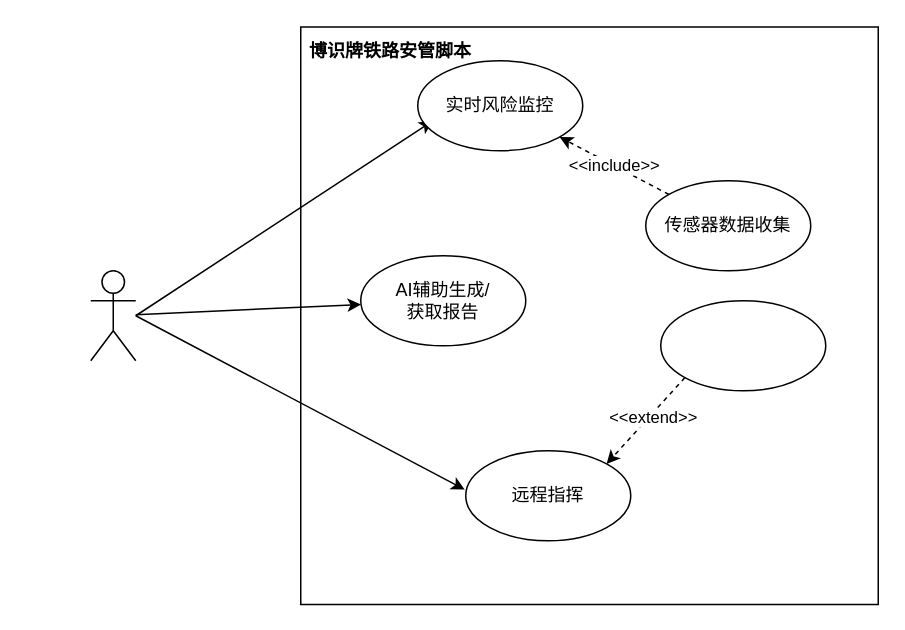
Some shapes in this 905 by 630 pixel diagram are drawn without their labels. The shapes that lost their labels are listed below. From the top down, each one's centre as x and y in pixels, then its label:
[112,315]: 铁路管理局（SRBA）
[742,345]: 紧急协同响应
